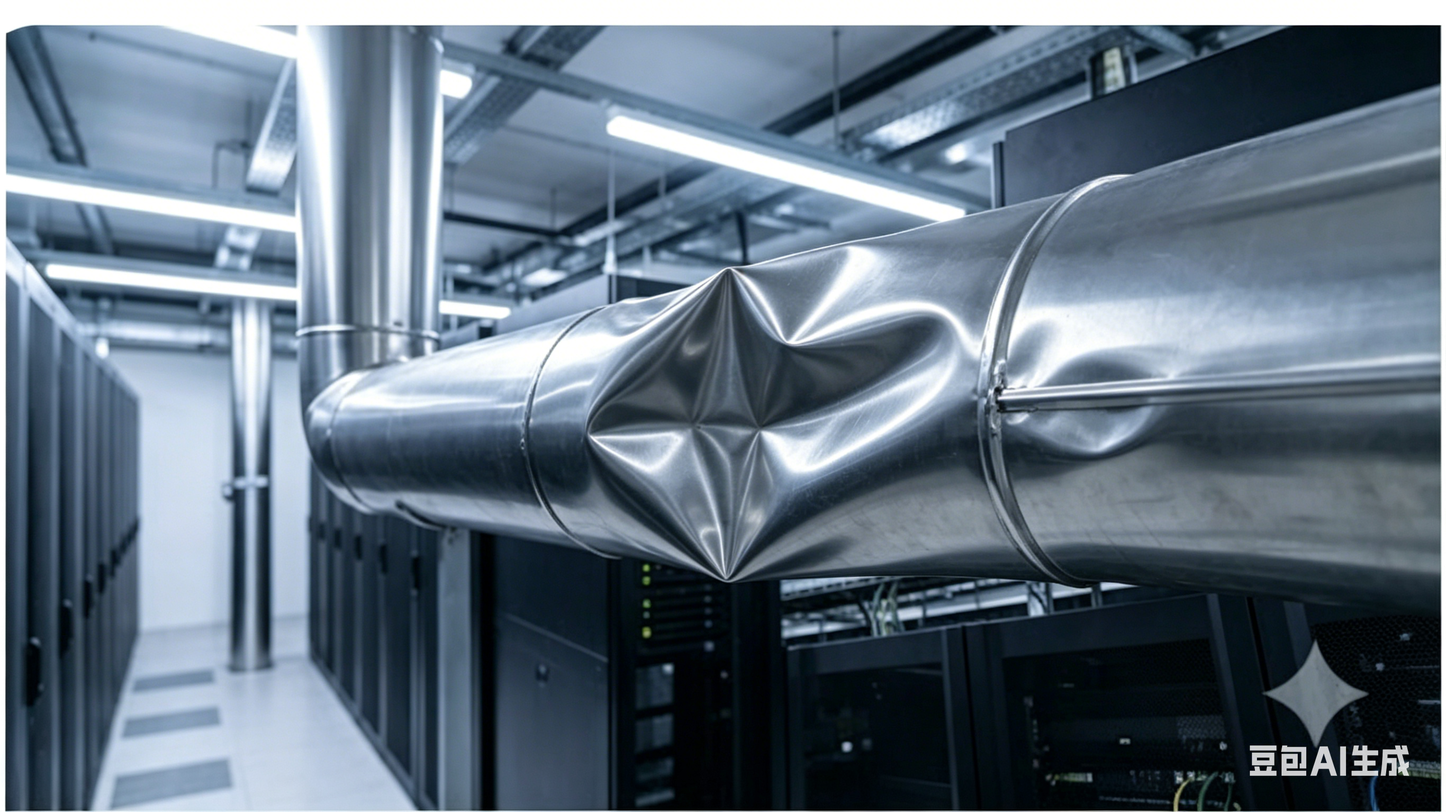Leakage: (555, 220, 990, 600), (1003, 340, 1216, 471)
